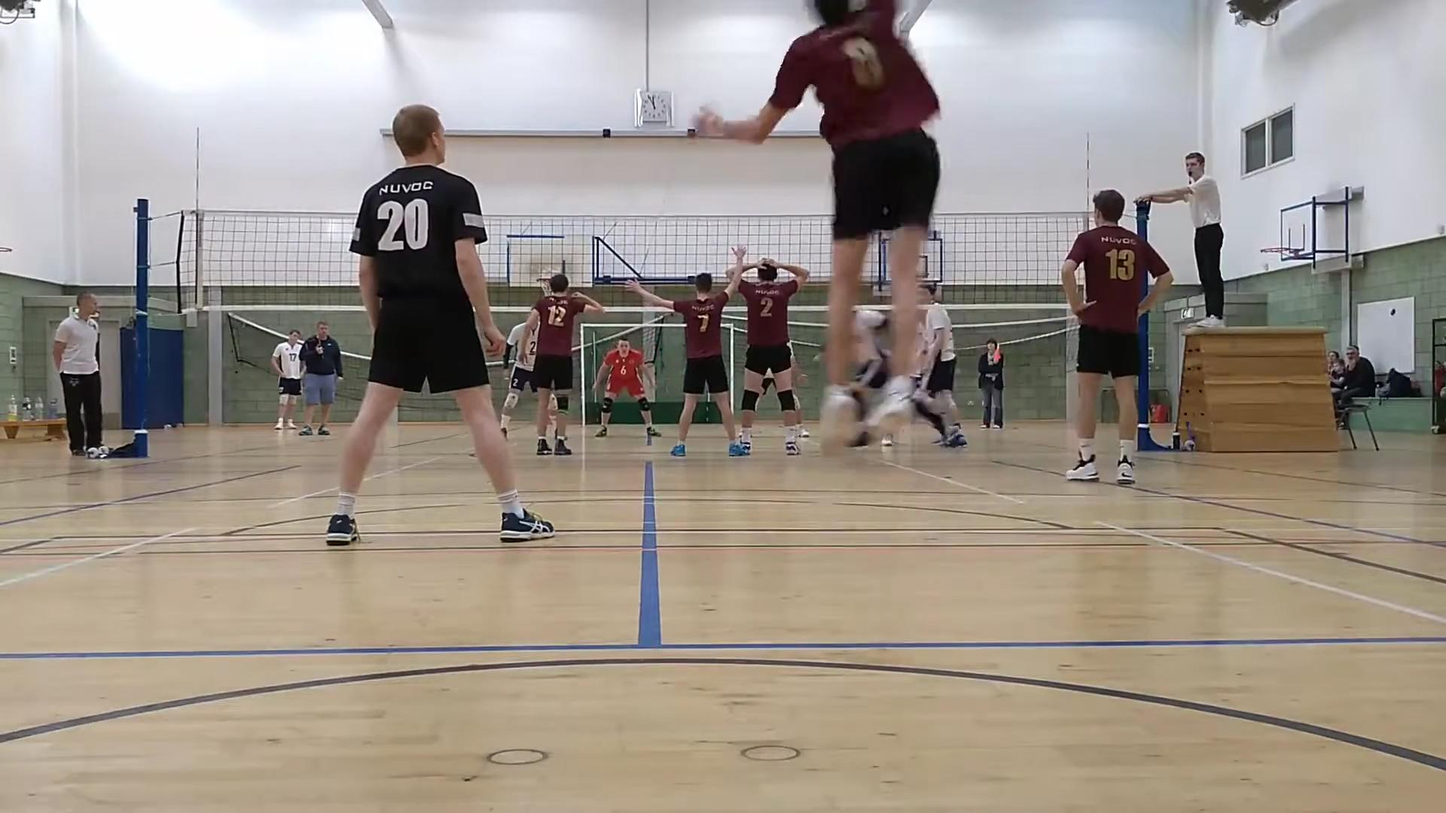Player: (326, 105, 554, 545), (1061, 190, 1172, 483), (627, 266, 746, 456), (524, 273, 604, 455), (737, 259, 808, 455), (919, 287, 964, 446), (596, 338, 660, 437), (849, 309, 896, 410), (501, 321, 536, 437), (789, 340, 810, 439)
Serve: (676, 0, 942, 423)
